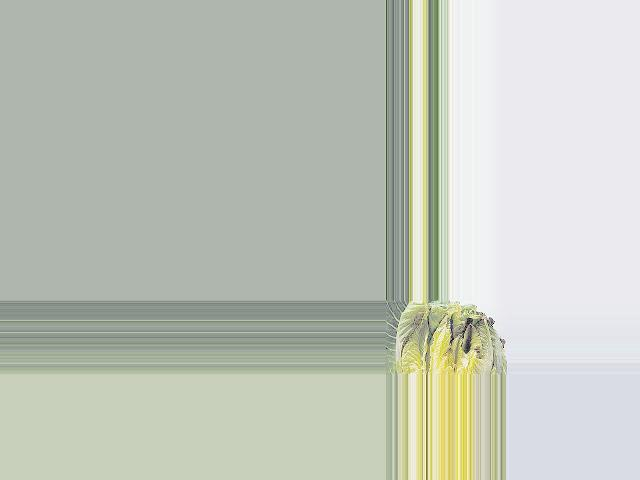lettuce: (385, 303, 502, 375)
